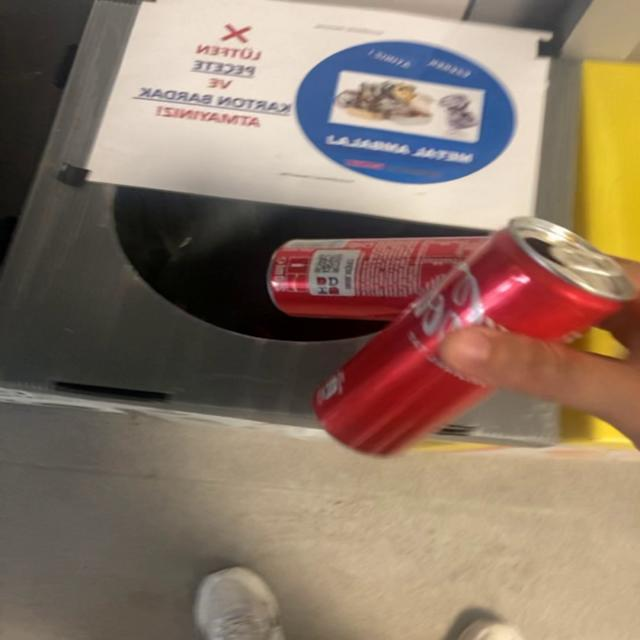bin: (2, 0, 581, 421)
metal: (268, 217, 633, 453)
